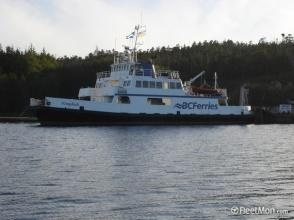otherboat: (31, 51, 265, 121)
